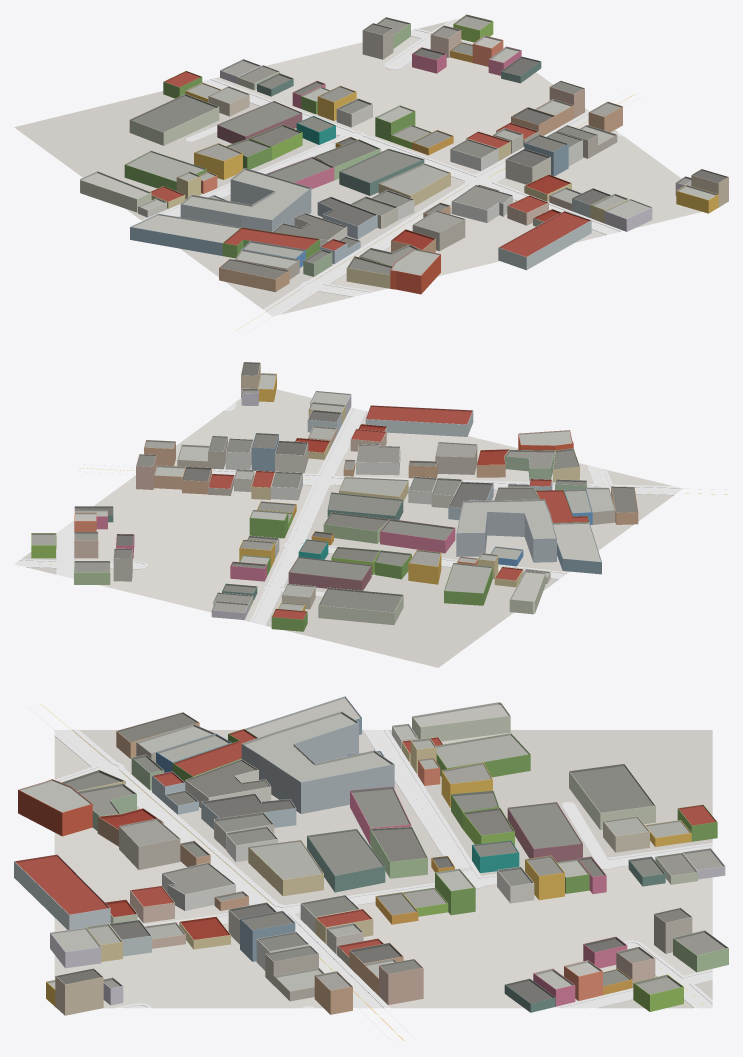
The picture shows the model from 3 angles, top to bottom: view 1: azimuth 30°, elevation 25°; view 2: azimuth 150°, elevation 25°; view 3: azimuth 270°, elevation 25°; orthographic projection. The views are drawn at different scales.
Visible parts, largest first — view 1: roofs, walls, ground, asphalt, sidewalk; view 2: ground, roofs, walls, asphalt, sidewalk; view 3: roofs, ground, walls, asphalt, sidewalk, markings.
Boxes of the visible parts, x1,y1,x2,y2 form: roofs: [80, 14, 728, 279]; walls: [80, 21, 728, 294]; ground: [14, 21, 719, 314]; asphalt: [162, 18, 623, 316]; sidewalk: [142, 19, 720, 316]; ground: [22, 389, 673, 667]; roofs: [31, 362, 638, 619]; walls: [31, 363, 638, 631]; asphalt: [14, 404, 682, 624]; sidewalk: [19, 401, 682, 625]; roofs: [14, 696, 728, 1003]; ground: [54, 730, 712, 1008]; walls: [14, 716, 728, 1015]; asphalt: [55, 730, 712, 1008]; sidewalk: [54, 729, 712, 1007]; markings: [28, 704, 703, 1042].
Size of what is drawn, in the model's own units: 305 by 13.29 by 272.
